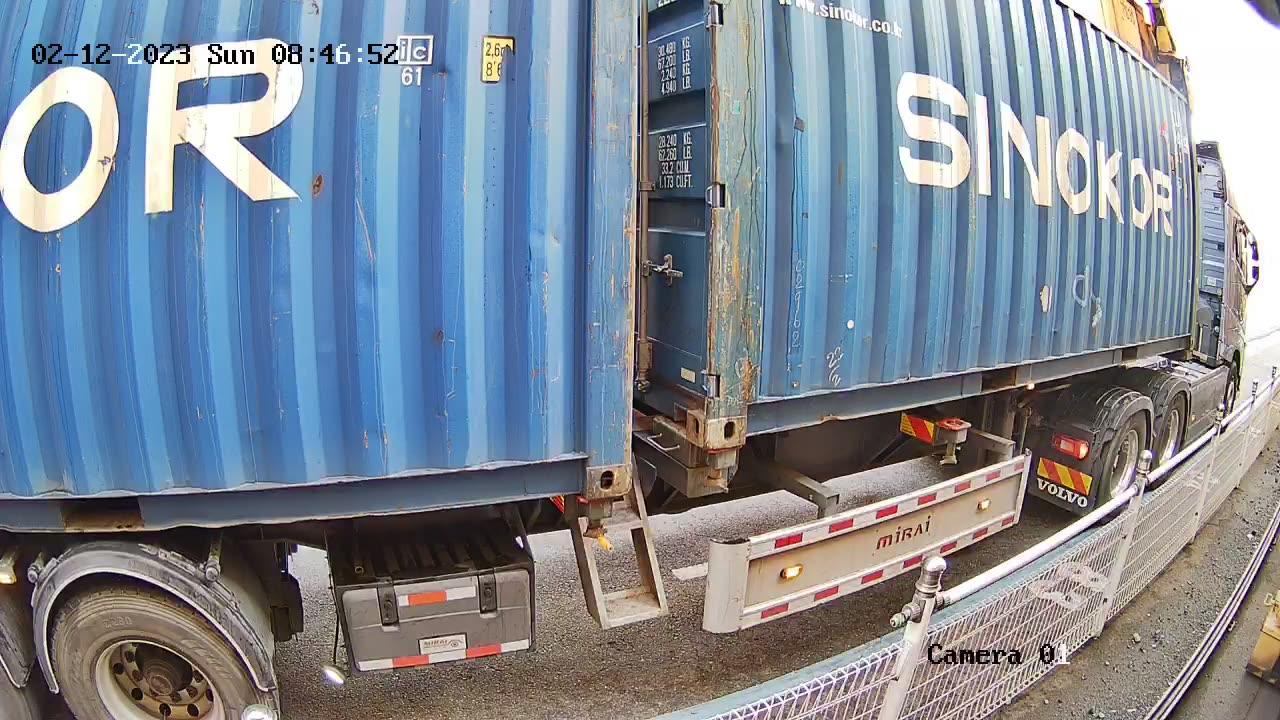Cone: (698, 446, 744, 496), (579, 500, 616, 545)
Hole_L: (705, 369, 783, 449)
Hole_R: (539, 427, 631, 497)
Tire: (49, 593, 254, 716), (1101, 410, 1149, 511), (1154, 395, 1187, 483)
